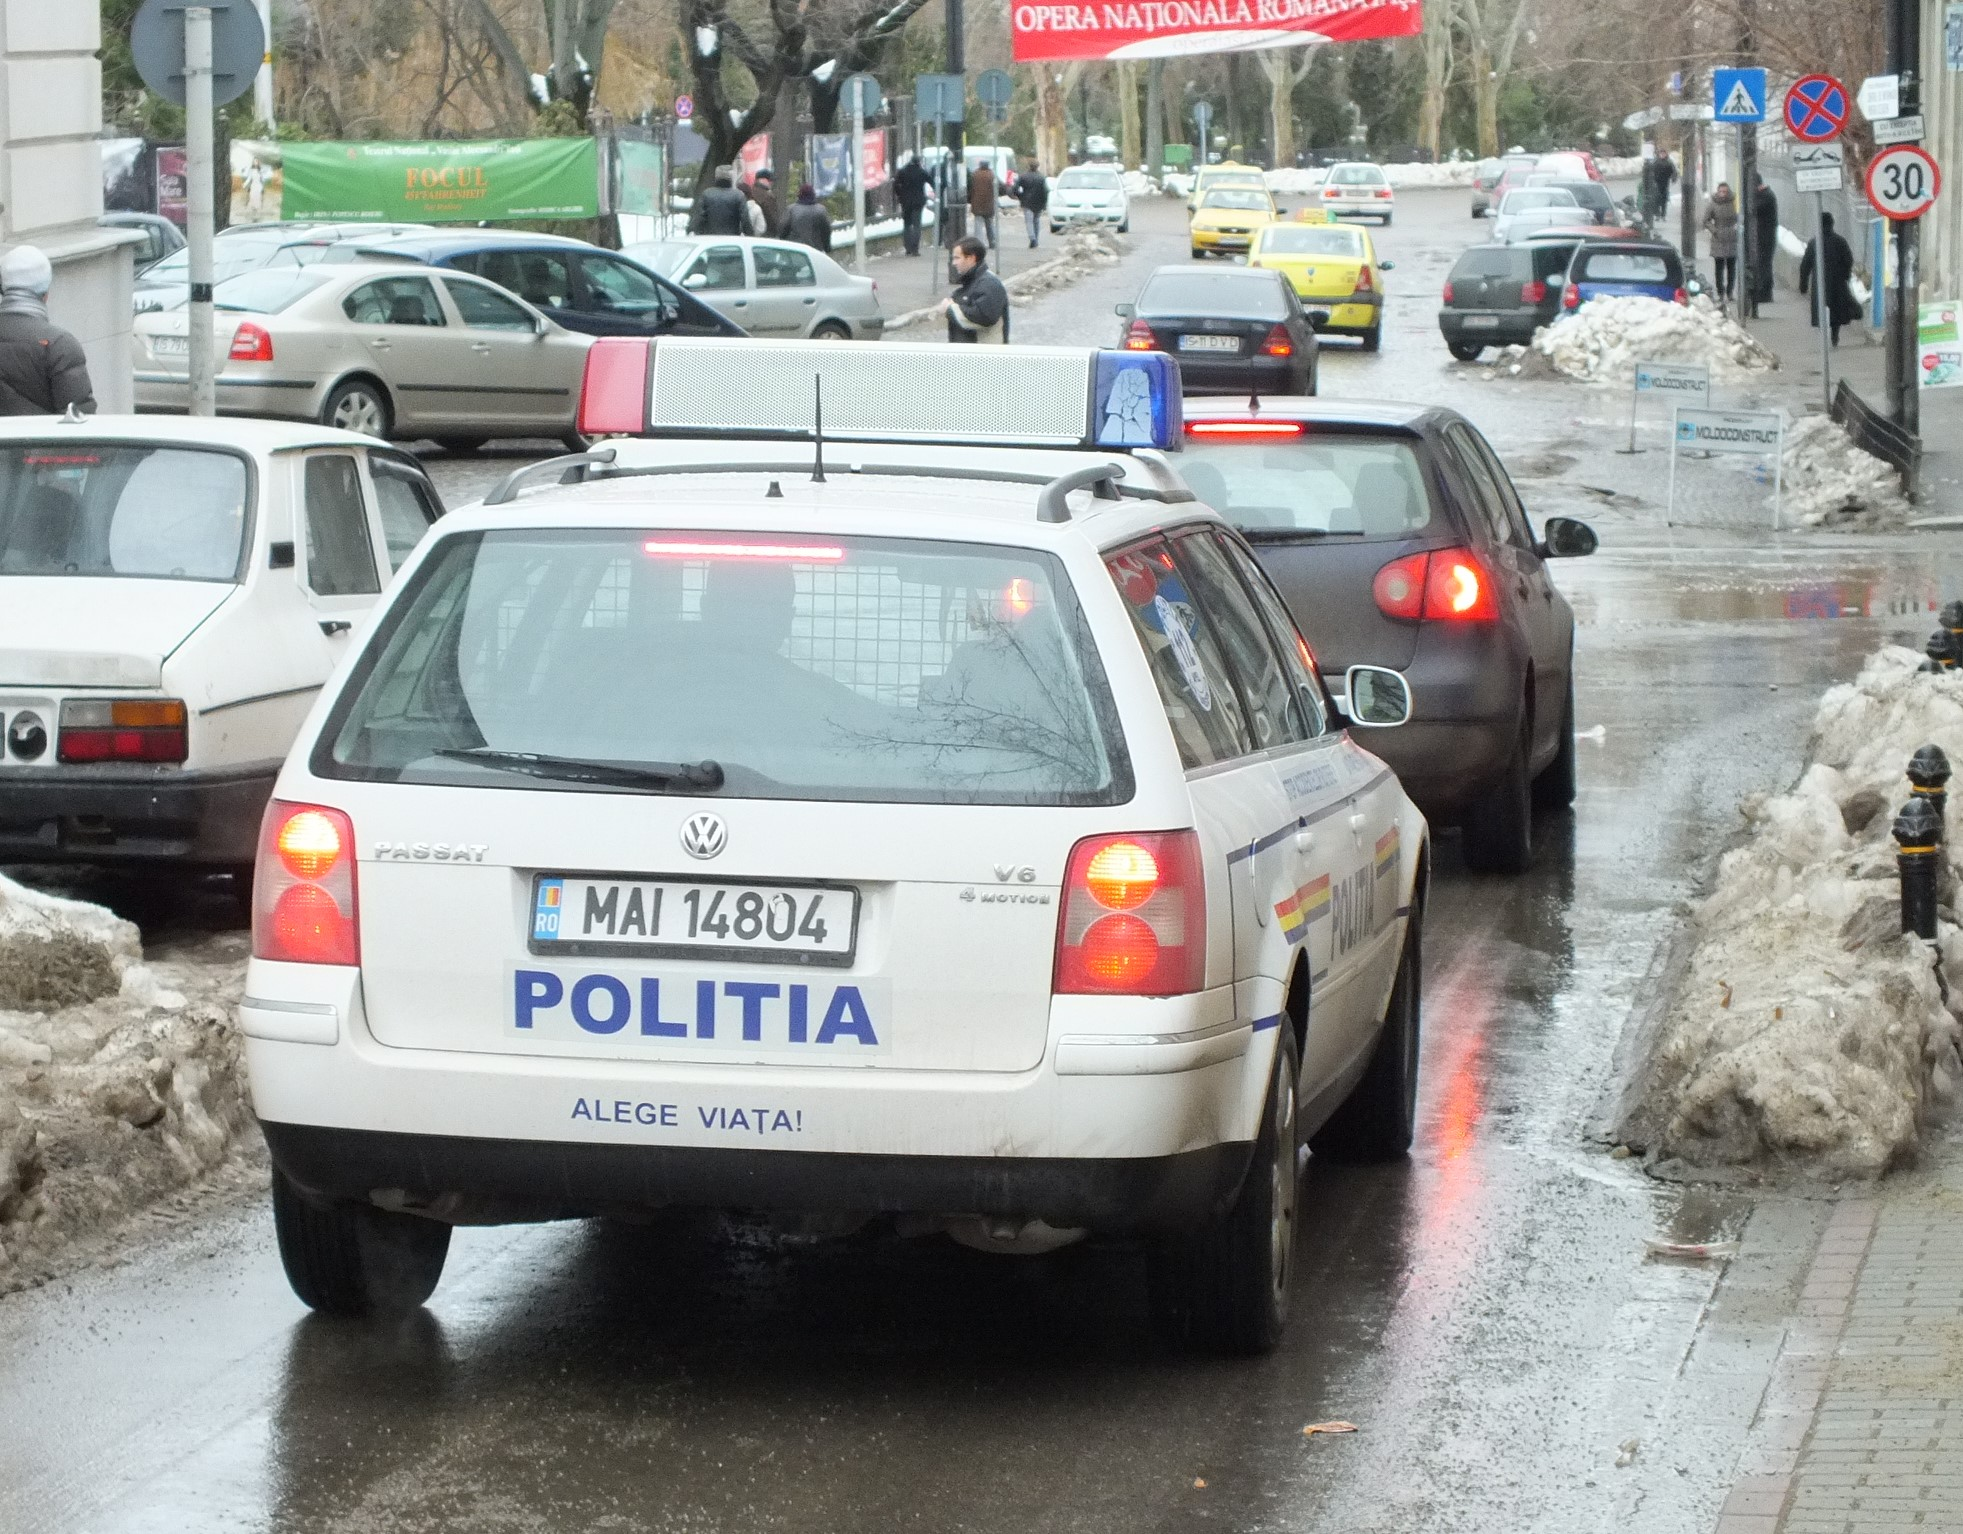MAI14804: (557, 883, 842, 949)
